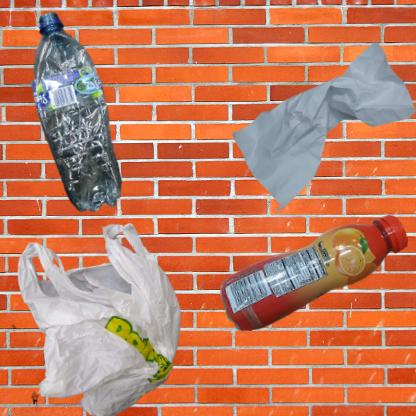bolsa: (10, 213, 207, 416)
botella: (10, 10, 157, 233), (213, 213, 416, 341)
papel: (213, 10, 416, 256)
